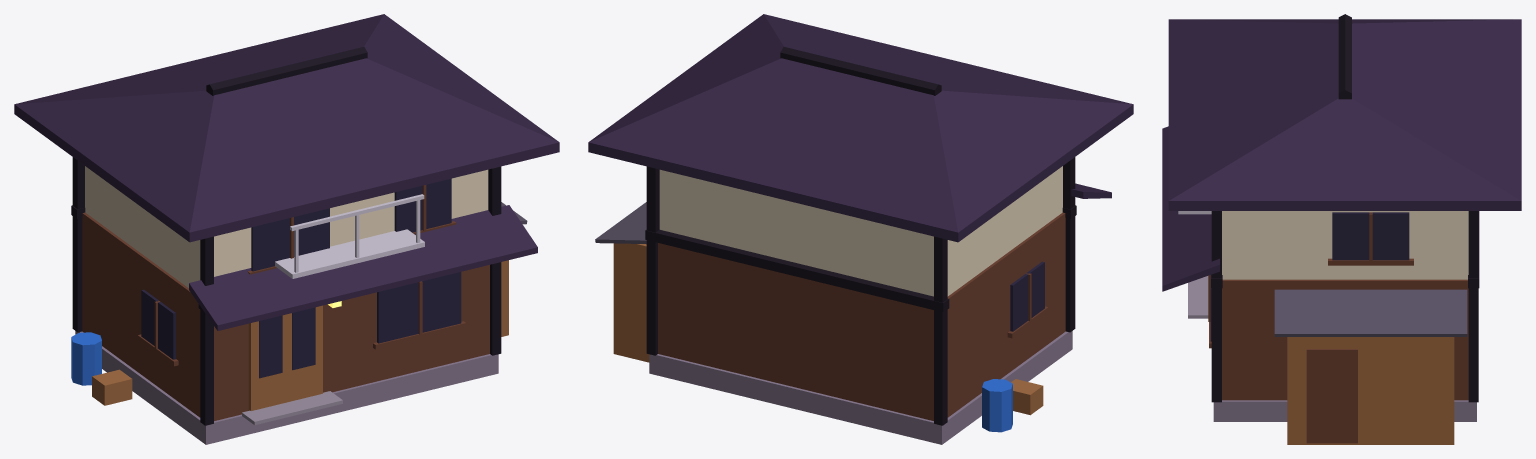
File: house_1.glb
The picture shows the model from 3 angles, left to right: view 1: azimuth 30°, elevation 25°; view 2: azimuth 150°, elevation 25°; view 3: azimuth 270°, elevation 25°; orthographic projection.
Parts seen in each view (by area): view 1: house_1; view 2: house_1; view 3: house_1.
Boxes of the visible parts, bbox=[...] form: house_1: bbox=[14, 14, 559, 444]; house_1: bbox=[588, 14, 1133, 444]; house_1: bbox=[1162, 14, 1521, 444].
Bounding box in the file's own units: 7.07 × 5.12 × 5.6.
